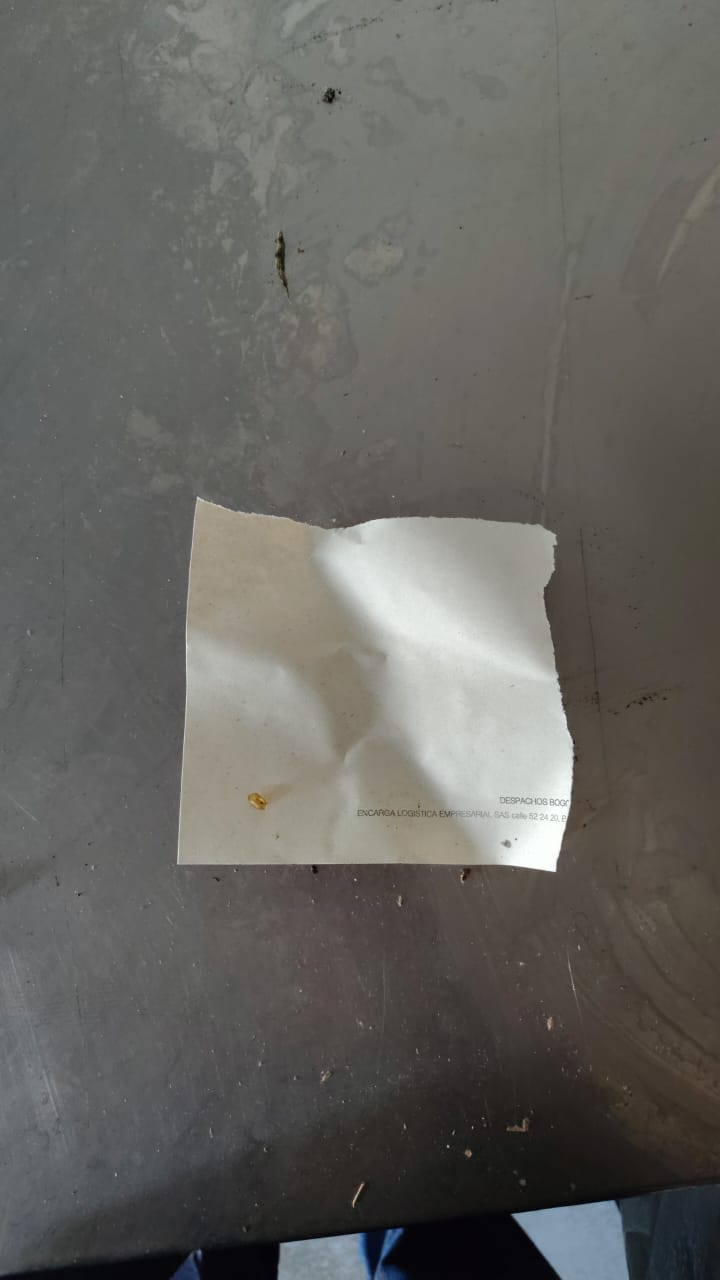Papel: (173, 496, 575, 873)
